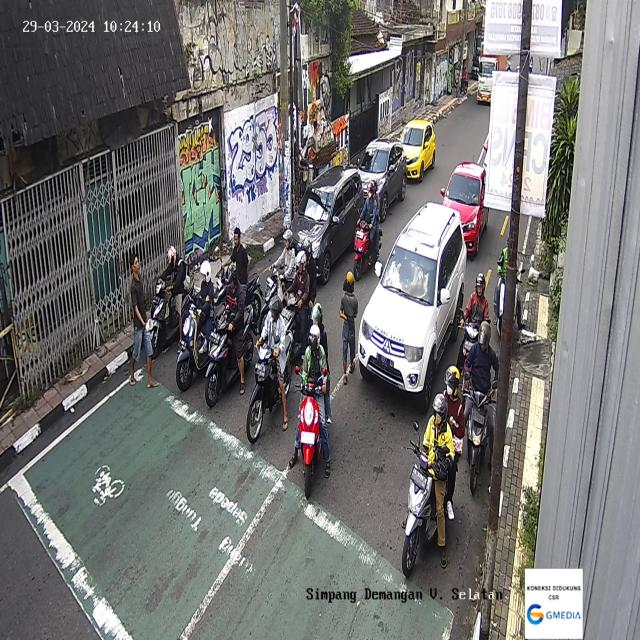car: (357, 200, 467, 412), (288, 165, 364, 284), (440, 161, 489, 256), (354, 138, 407, 222), (391, 119, 436, 183)
motorcycle: (401, 365, 465, 578), (293, 303, 334, 499), (204, 262, 255, 408), (461, 322, 501, 496), (246, 294, 292, 444), (148, 246, 194, 362), (176, 259, 216, 392), (213, 228, 262, 331), (280, 236, 316, 360), (258, 229, 298, 336), (456, 270, 490, 377), (493, 236, 526, 338), (353, 178, 383, 282)
